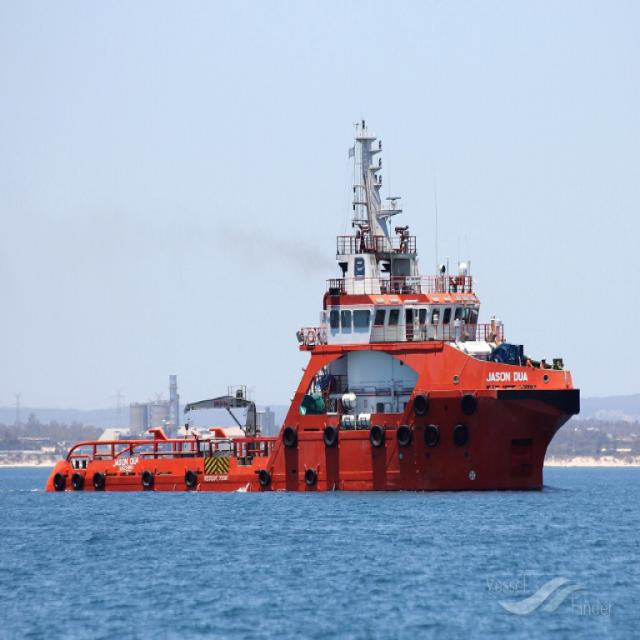OCR: (483, 366, 531, 390), (108, 452, 140, 472)
